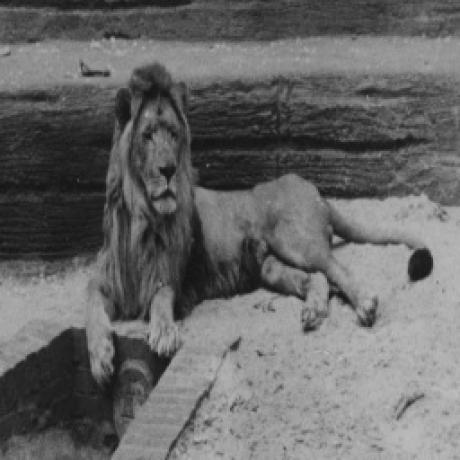Lion: (80, 52, 392, 356)
